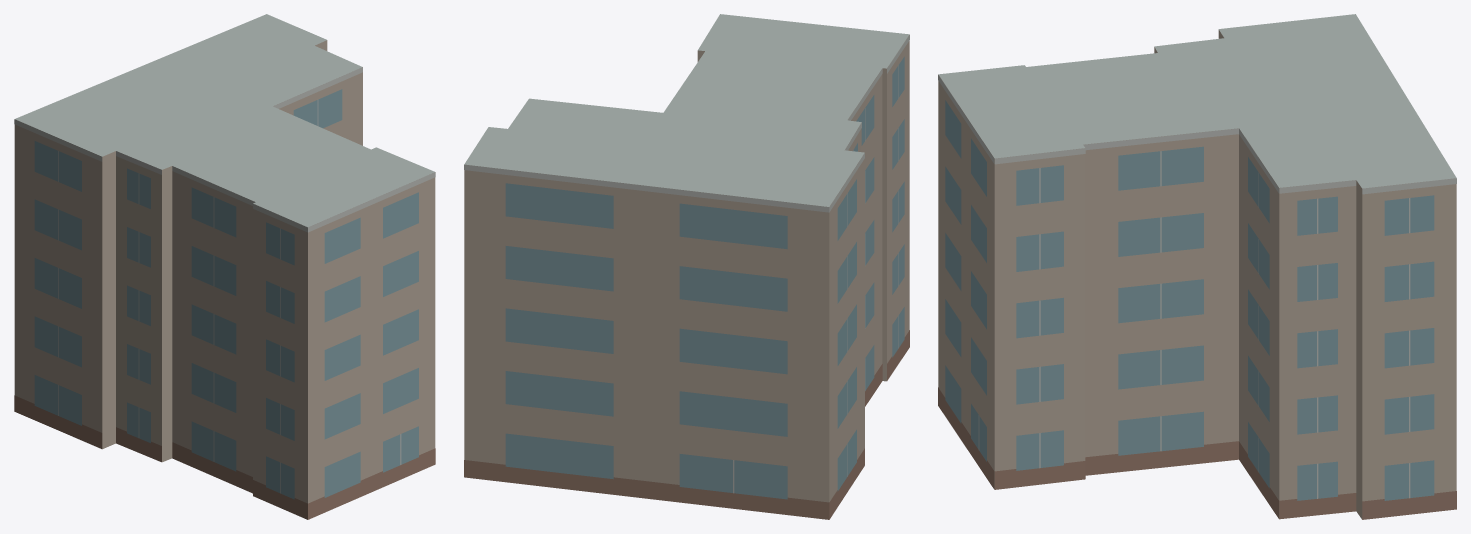
Rendered from survey-upis-32750767.glb.
3 views of the same model, side by side, from view 1: azimuth 30°, elevation 25°; view 2: azimuth 150°, elevation 25°; view 3: azimuth 270°, elevation 25° (orthographic). The views are drawn at different scales.
Visible parts, largest first — view 1: survey-upis-32750767.tmp; view 2: survey-upis-32750767.tmp; view 3: survey-upis-32750767.tmp.
Boxes of the visible parts, bbox=[...] form: survey-upis-32750767.tmp: bbox=[14, 14, 435, 519]; survey-upis-32750767.tmp: bbox=[464, 14, 909, 519]; survey-upis-32750767.tmp: bbox=[938, 14, 1456, 519].
Bounding box in the file's own units: 15.55 × 13.75 × 19.52.
